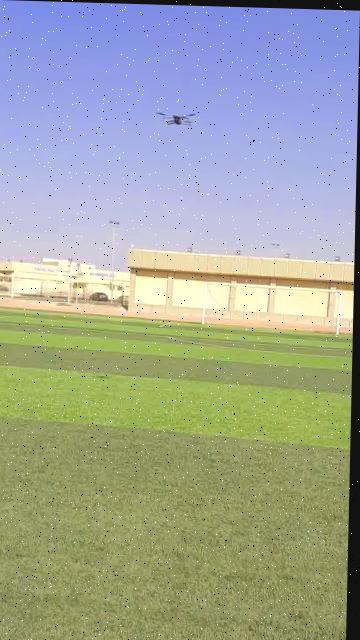drone: (161, 103, 201, 134)
